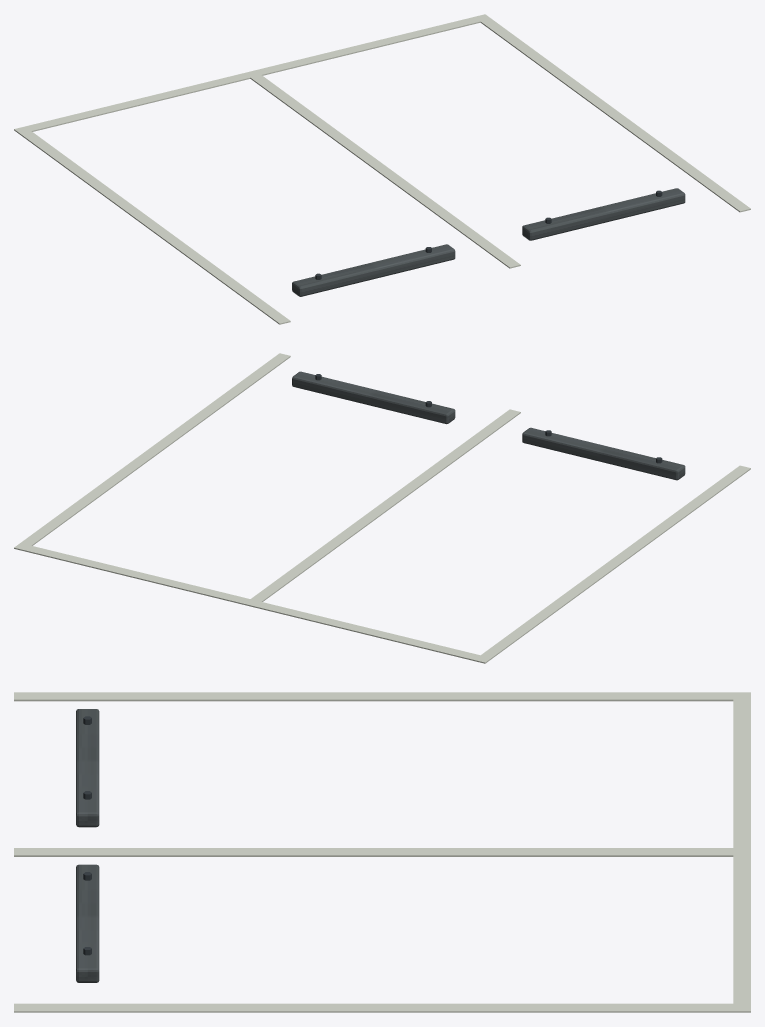
Rendered from fac_stall.glb.
3 renders of one model, top to bottom at view 1: azimuth 30°, elevation 25°; view 2: azimuth 150°, elevation 25°; view 3: azimuth 270°, elevation 25°, orthographic. The views are drawn at different scales.
Visible parts, largest first — view 1: FAC_STALL; view 2: FAC_STALL; view 3: FAC_STALL.
Part boxes in pixels (x1,y1,x2,y2): FAC_STALL: [14, 14, 750, 324]; FAC_STALL: [14, 353, 750, 663]; FAC_STALL: [14, 692, 750, 1012].
Bounding box in the file's own units: 5.12 × 0.15 × 5.
3 materials, 1 textured.
